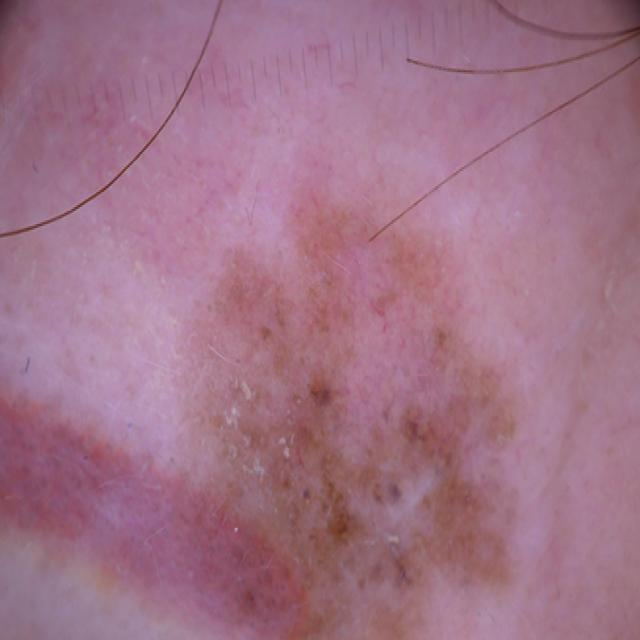Keratosis: (192, 262, 401, 640), (9, 391, 162, 625), (418, 377, 549, 596)
